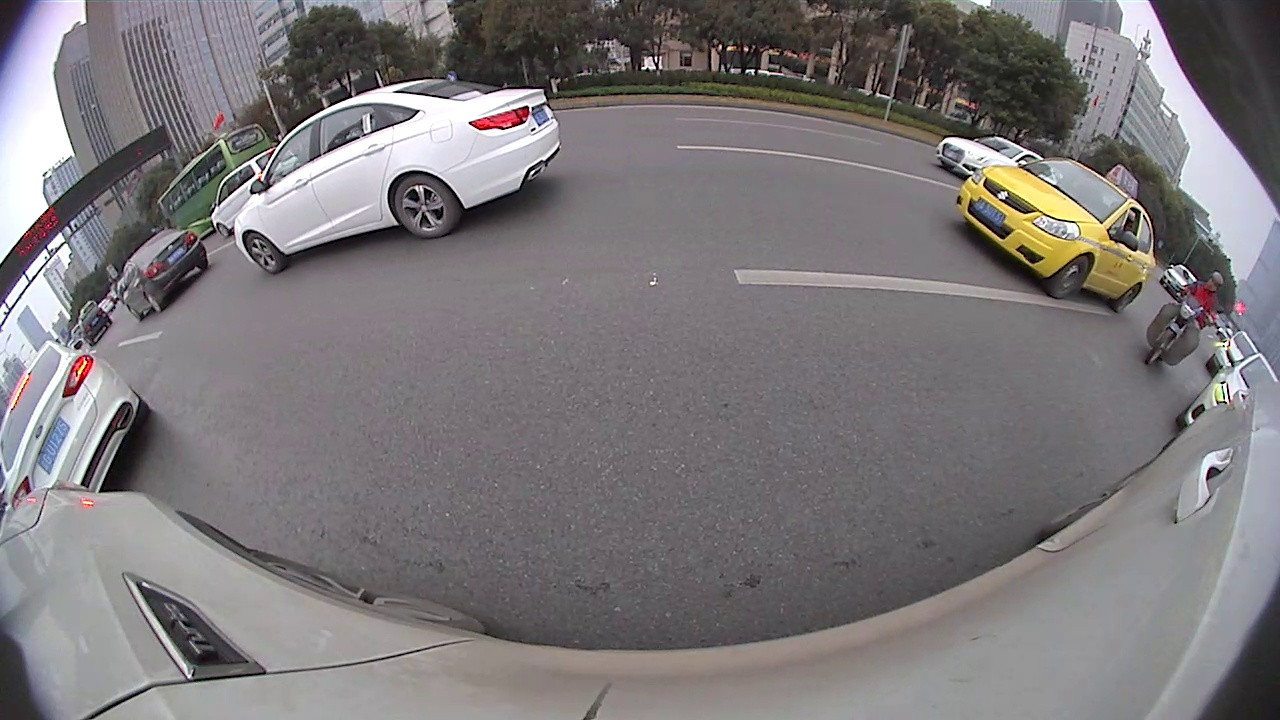bus: (156, 124, 270, 231)
car: (234, 80, 559, 273), (960, 156, 1154, 313), (1, 345, 148, 502), (117, 229, 207, 321), (213, 147, 293, 234), (1183, 355, 1277, 427), (934, 138, 1045, 178), (1206, 330, 1260, 374)
front: (1049, 256, 1094, 300), (244, 231, 283, 274), (217, 223, 230, 239)
rear: (391, 175, 460, 239), (1114, 282, 1141, 315), (142, 292, 163, 314)
rider: (1142, 271, 1227, 371)
